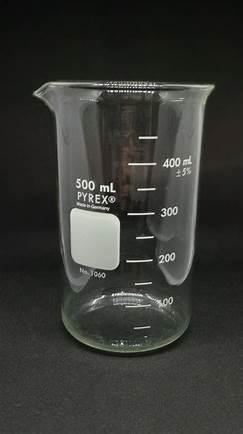Beaker: (31, 63, 223, 357)
